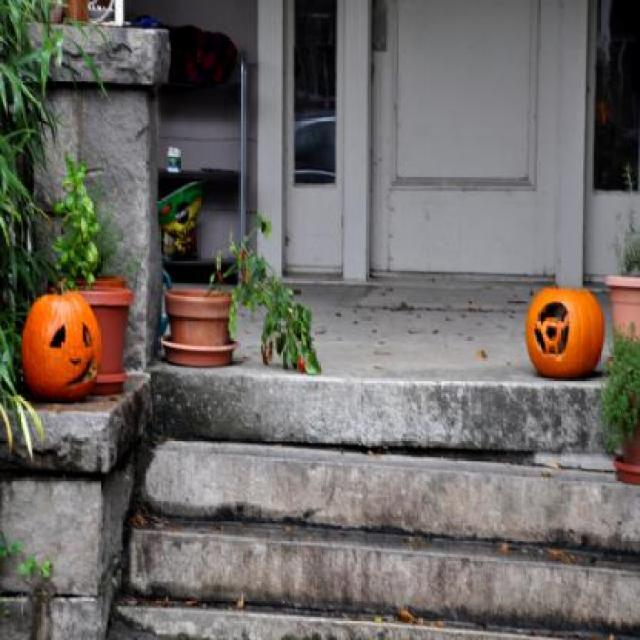Pumpkin: (18, 286, 104, 400), (524, 281, 604, 377)
